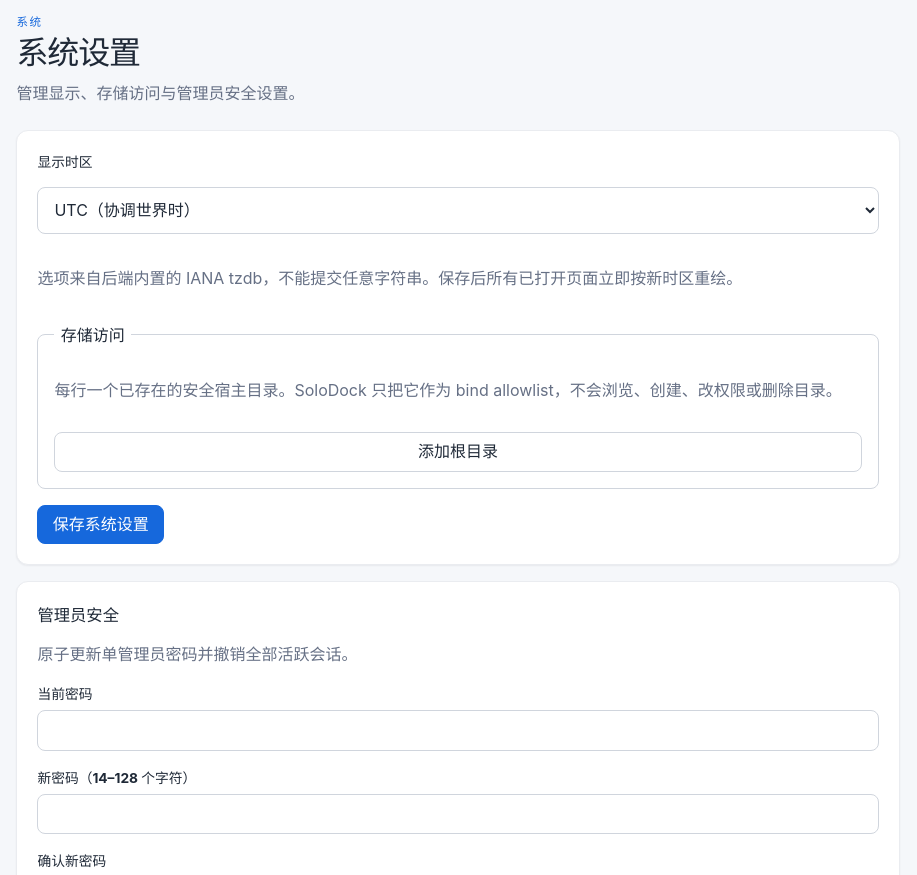
Settings › uses backend-provided timezone options and applies the saved value immediately
This screenshot has width=917, height=875.
Select "Asia/Shanghai · Asia" in the dropdown labelled "显示时区": (458, 210) [37,187,879,234]
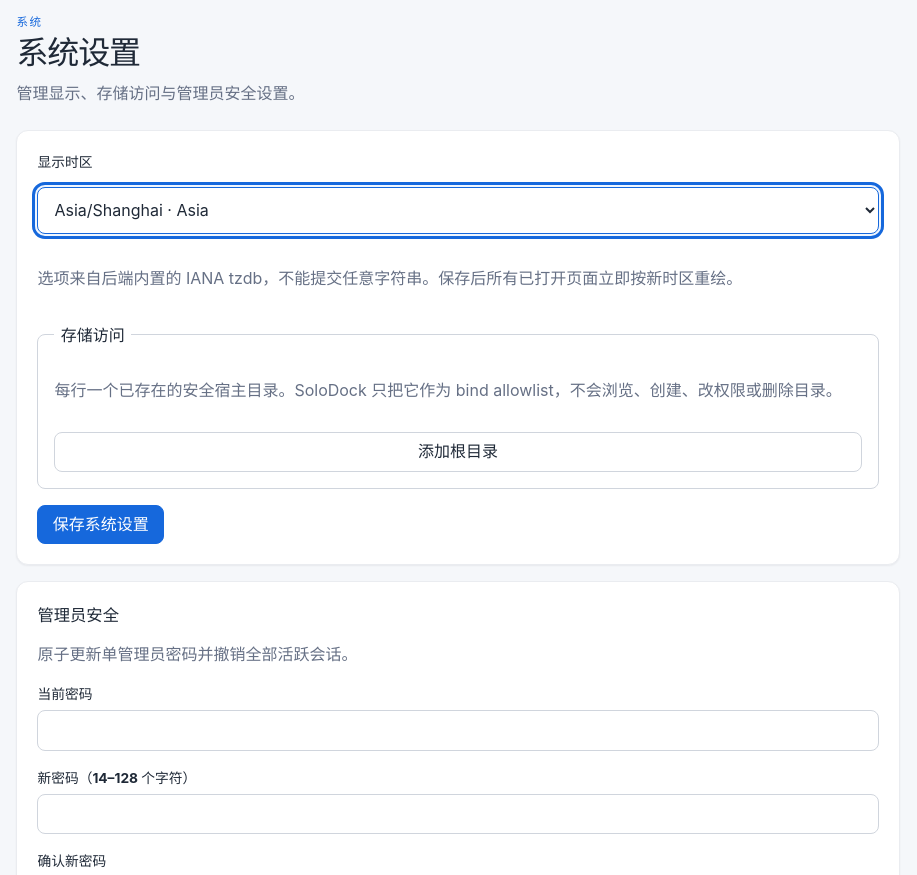
Click the button "保存系统设置": (101, 525) [37,505,164,544]
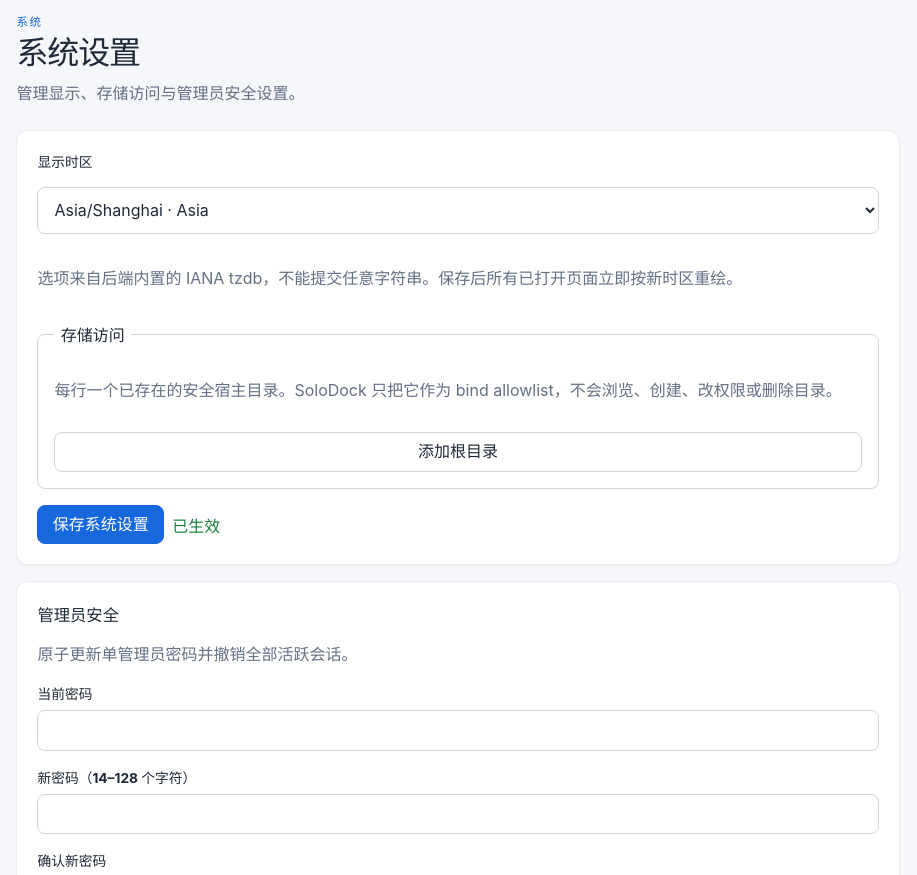
expect the text "已生效" is shown: met, box [172,512,220,536]
